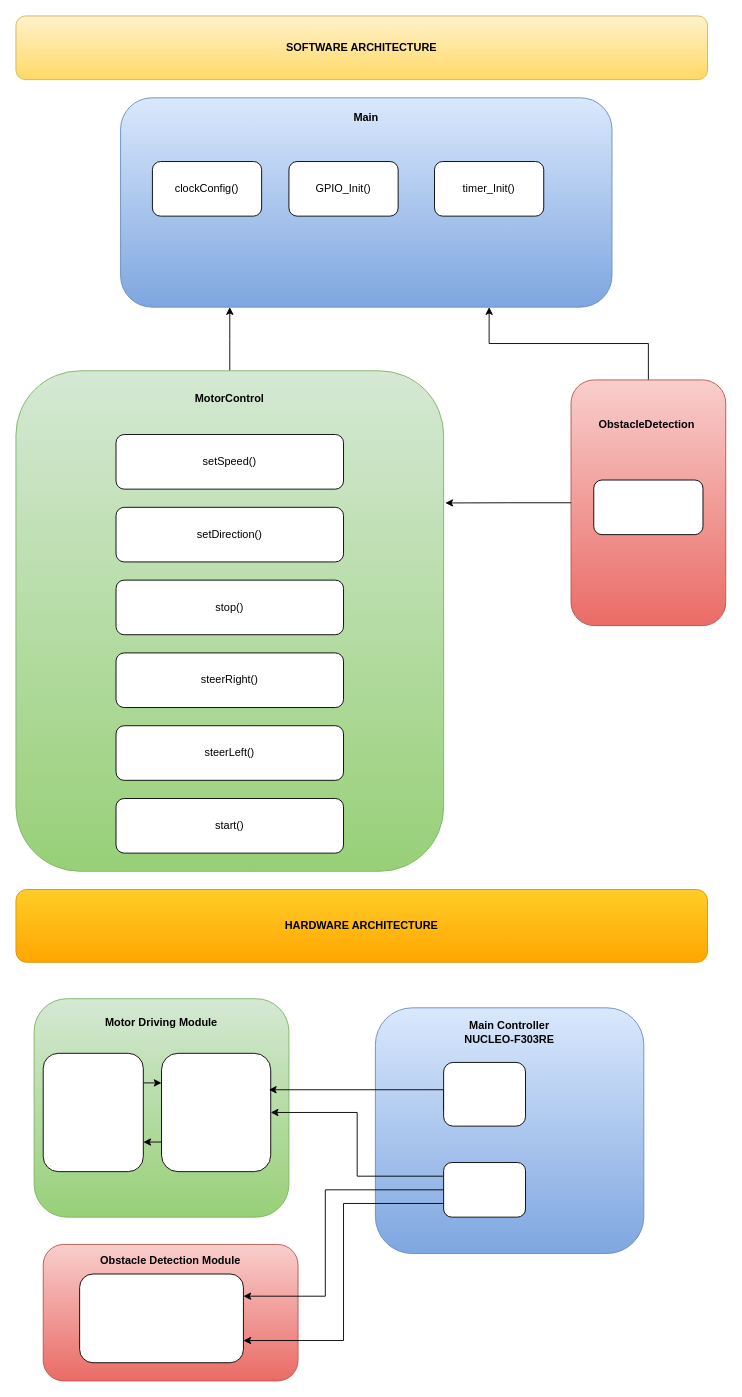
Image size: 742x1397. Some labels were removed from this diagram. The centre of each missing label's shape, as x and y in pixels:
"DC Motor Used to move the car" goes at [92,1112].
"getDistance()" goes at [648,507].
"GPIO" goes at [484,1189].
"L298N Motor Driver Used to control the speed and the direction of the motors" goes at [216,1112].
"PWM" goes at [484,1094].
"Ultrasonic Sensor HC-SR04 Used to detect the obstacles in front of the car" goes at [161,1318].
